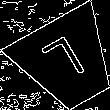L_SE: (41, 32, 95, 92)
